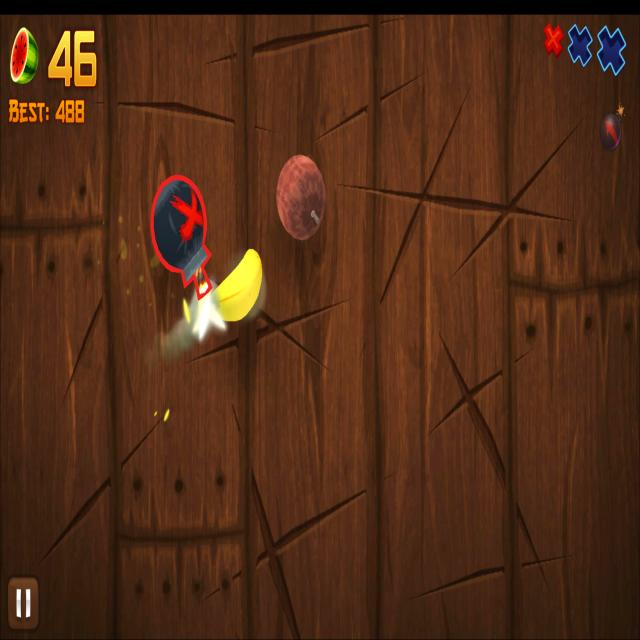bomb: (150, 172, 213, 300)
fruit: (276, 153, 326, 240), (212, 248, 261, 322)
